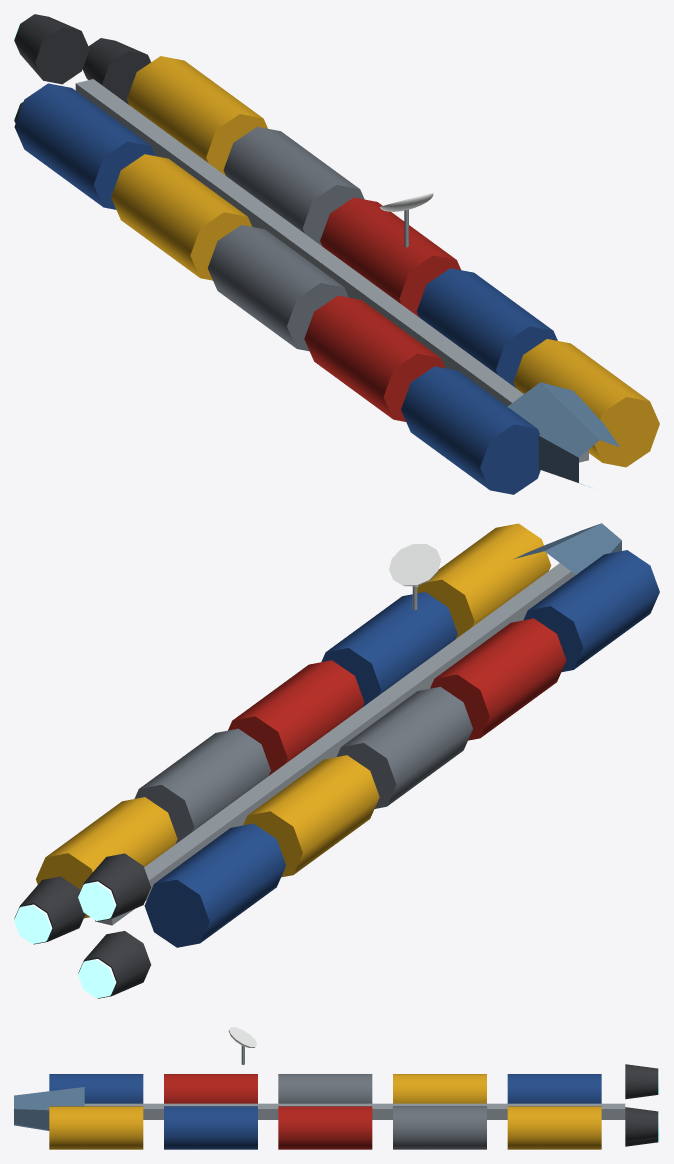
File: space_ship_logistics_mk5.glb
The picture shows the model from 3 angles, top to bottom: view 1: azimuth 30°, elevation 25°; view 2: azimuth 150°, elevation 25°; view 3: azimuth 270°, elevation 25°; orthographic projection. The views are drawn at different scales.
Visible parts, largest first — view 1: body, pod_4_0, pod_0_0, pod_1_0, pod_3_0, pod_2_0, pod_1_1, pod_3_1, pod_0_1, pod_2_1, pod_4_1, engine_1 (+1 smaller); view 2: body, pod_0_0, pod_2_0, pod_3_0, pod_4_0, pod_1_0, pod_1_1, pod_2_1, pod_3_1, pod_4_1, pod_0_1, engine_1 (+3 smaller); view 3: body, pod_0_1, pod_2_1, pod_4_1, pod_1_1, pod_3_1, pod_0_0, pod_2_0, pod_1_0, pod_3_0, pod_4_0, engine_0 (+2 smaller).
Boxes of the visible parts, x1,y1,x2,y2 form: body: (75,79,620,486); pod_4_0: (401,366,540,494); pod_0_0: (14,83,155,209); pod_1_0: (111,154,252,280); pod_3_0: (304,295,445,421); pod_2_0: (207,225,348,351); pod_1_1: (223,126,364,245); pod_3_1: (416,268,557,387); pod_0_1: (127,56,267,175); pod_2_1: (320,197,460,316); pod_4_1: (513,339,659,467); engine_1: (14,14,89,84); body: (95,523,621,925); pod_0_0: (144,823,286,947); pod_2_0: (336,686,472,808); pod_3_0: (430,618,566,740); pod_4_0: (523,550,659,672); pod_1_0: (243,755,379,877); pod_1_1: (134,728,270,843); pod_2_1: (228,660,364,775); pod_3_1: (321,592,457,707); pod_4_1: (417,523,551,638); pod_0_1: (36,797,177,918); engine_1: (78,853,151,921); body: (14,1087,625,1130); pod_0_1: (507,1106,601,1149); pod_2_1: (278,1106,372,1149); pod_4_1: (49,1106,143,1149); pod_1_1: (393,1106,486,1149); pod_3_1: (164,1106,257,1149); pod_0_0: (507,1074,601,1103); pod_2_0: (278,1074,372,1103); pod_1_0: (393,1074,486,1103); pod_3_0: (164,1074,257,1103); pod_4_0: (49,1074,143,1103); engine_0: (625,1107,659,1141).
Size of what is drawn, in the model's own units: 8.06 by 8.88 by 42.3.
